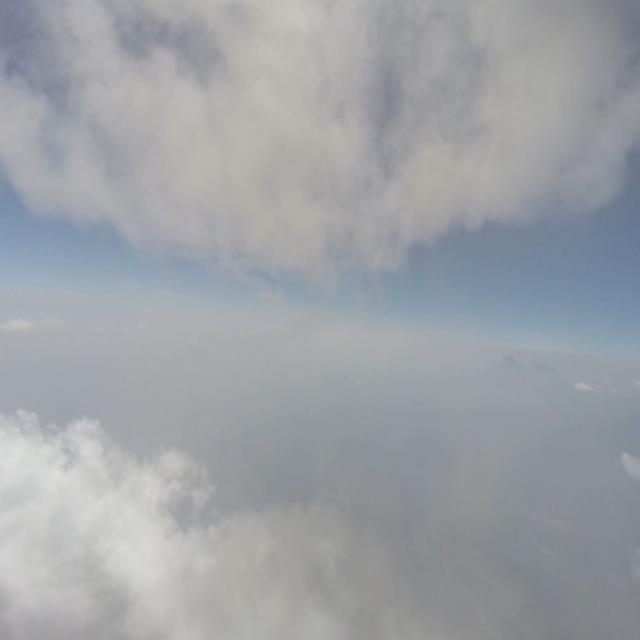Plume: (16, 26, 598, 310)
